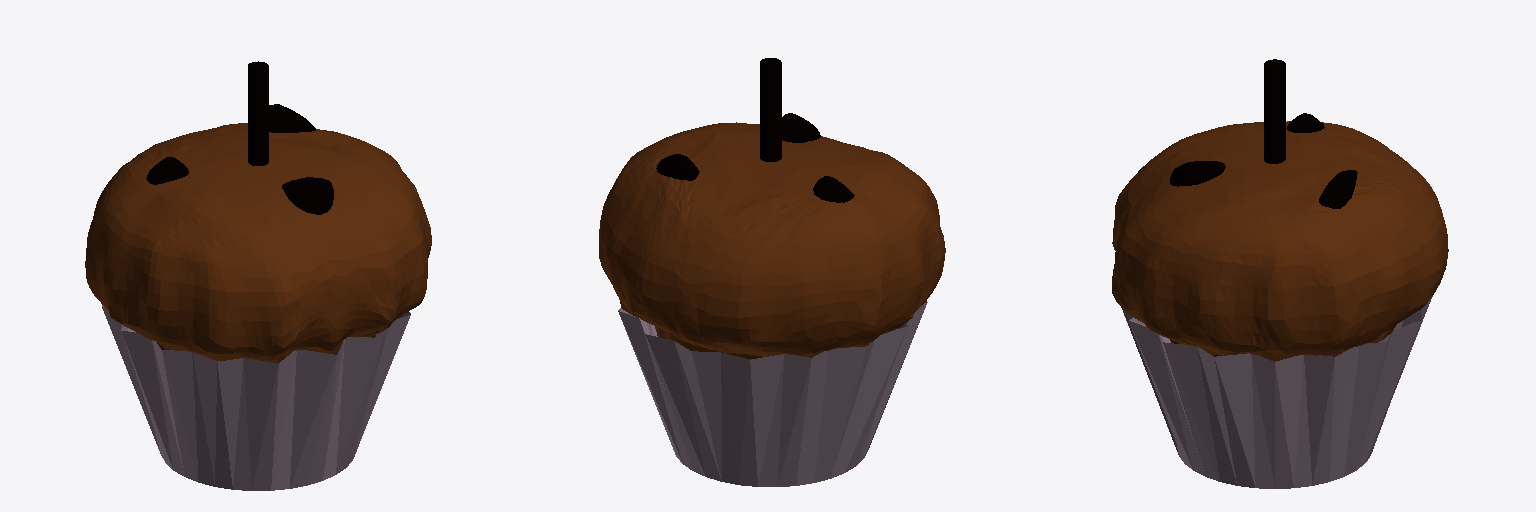
Rendered from cupcake.obj.
3 views of the same model, side by side, from view 1: azimuth 30°, elevation 25°; view 2: azimuth 150°, elevation 25°; view 3: azimuth 270°, elevation 25° (orthographic).
Parts seen in each view (by area): view 1: cake_main, paper, schoki, Cylinder; view 2: cake_main, paper, schoki, Cylinder; view 3: cake_main, paper, schoki, Cylinder.
Part boxes in pixels (x1,y1,x2,y2): cake_main: (85,123,431,362); paper: (102,305,410,490); schoki: (146,104,333,214); Cylinder: (248,61,268,165); cake_main: (599,122,945,359); paper: (618,299,927,486); schoki: (656,113,854,202); Cylinder: (760,58,781,161); cake_main: (1112,121,1448,361); paper: (1121,296,1432,488); schoki: (1170,113,1357,208); Cylinder: (1264,59,1285,163).
Bounding box in the file's own units: 4.46 × 5.43 × 4.32.